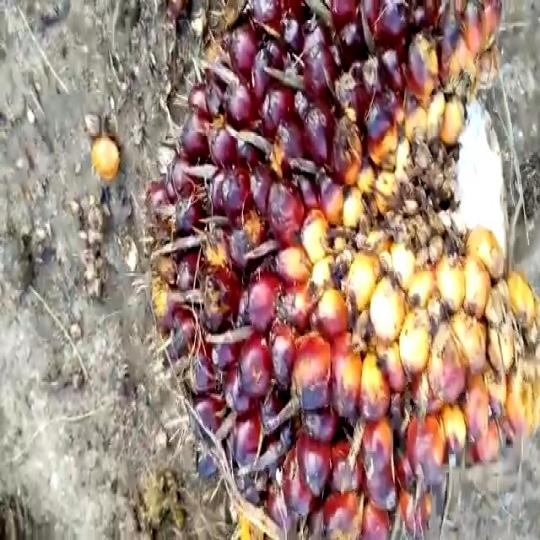kurang masak: (154, 0, 540, 540)
